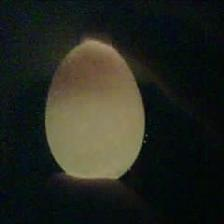infertile: (44, 38, 146, 182)
